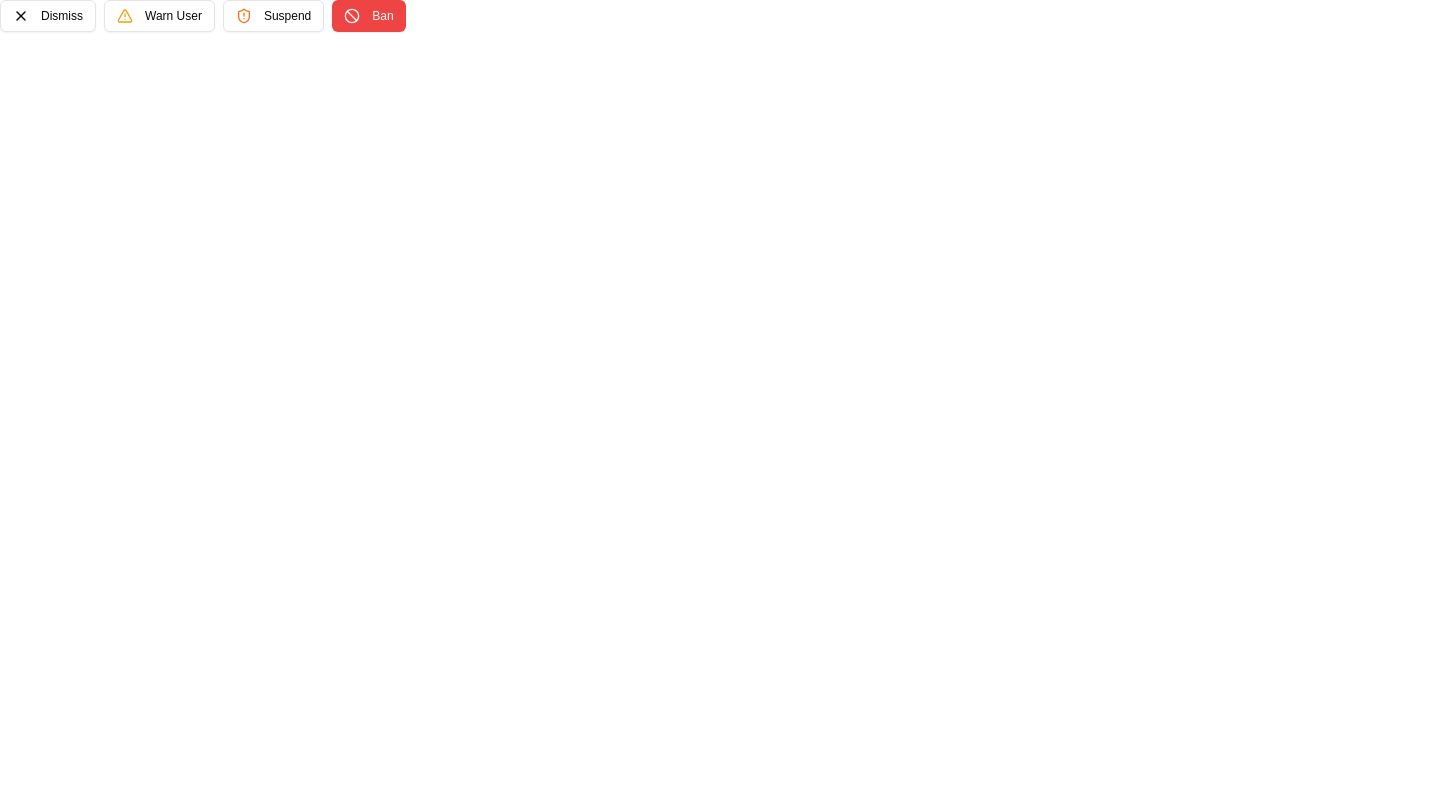
Scenario: ModerationActions › opens Suspend dialog when Suspend button is clicked
The image size is (1440, 810).
Click the button "Suspend" at (274, 16), box [223,0,324,32]
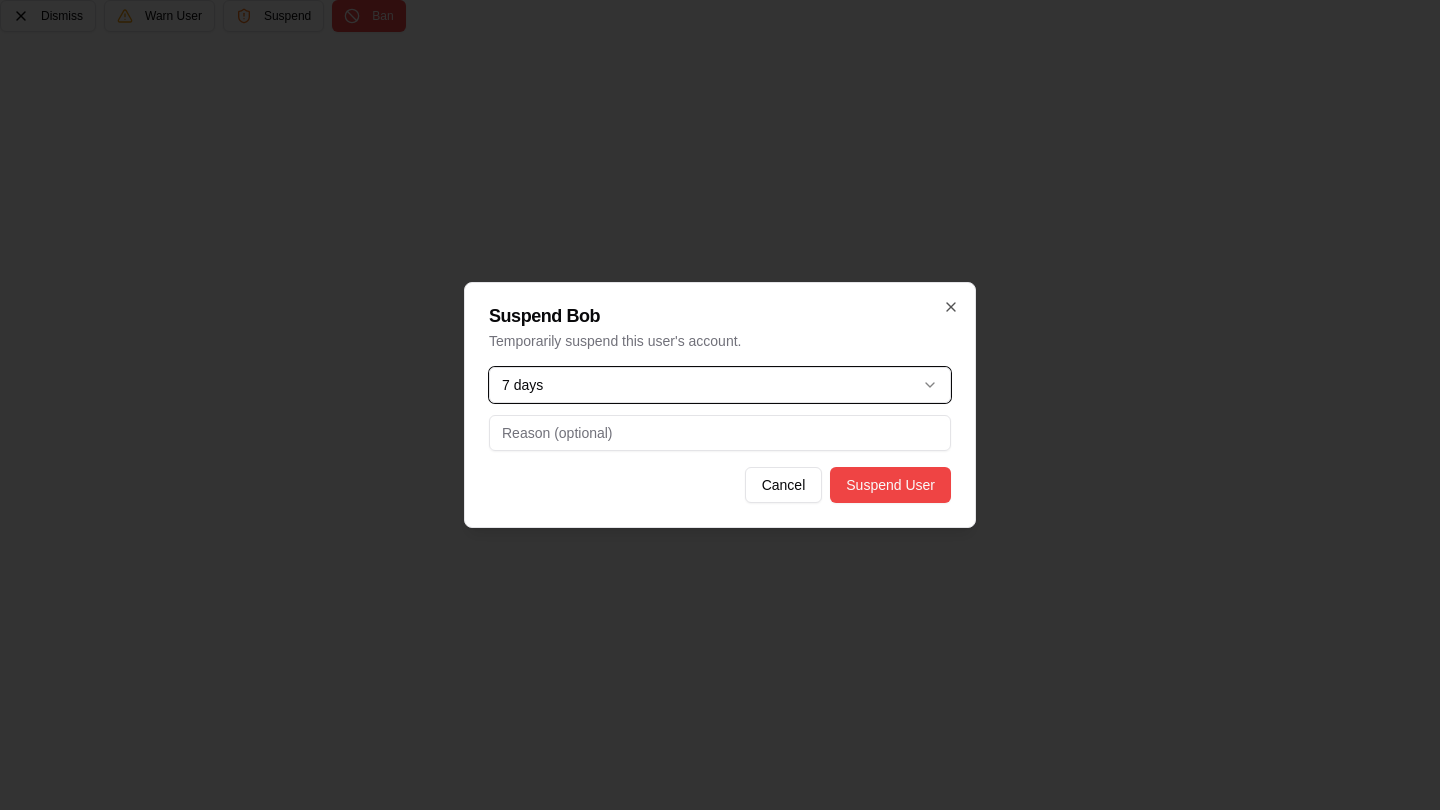
Expected: the heading "Suspend Bob" is shown, [489,306,600,326]
